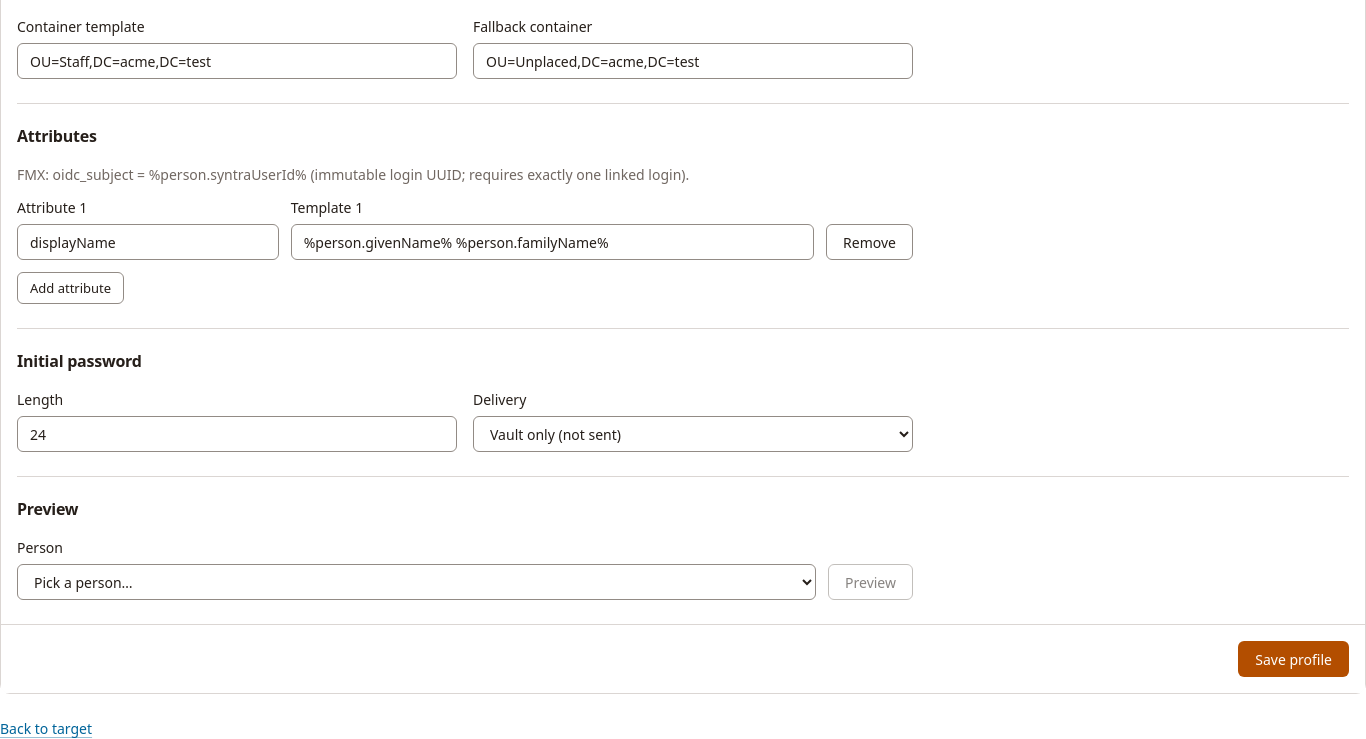
Scenario: AccountProfilePage › clears the preview after changing Template 1
The image size is (1366, 739).
(page scrolled)
Step 1. Select "Anna Novak" in the dropdown labelled "Person" → (417, 582), box [17,564,816,600]
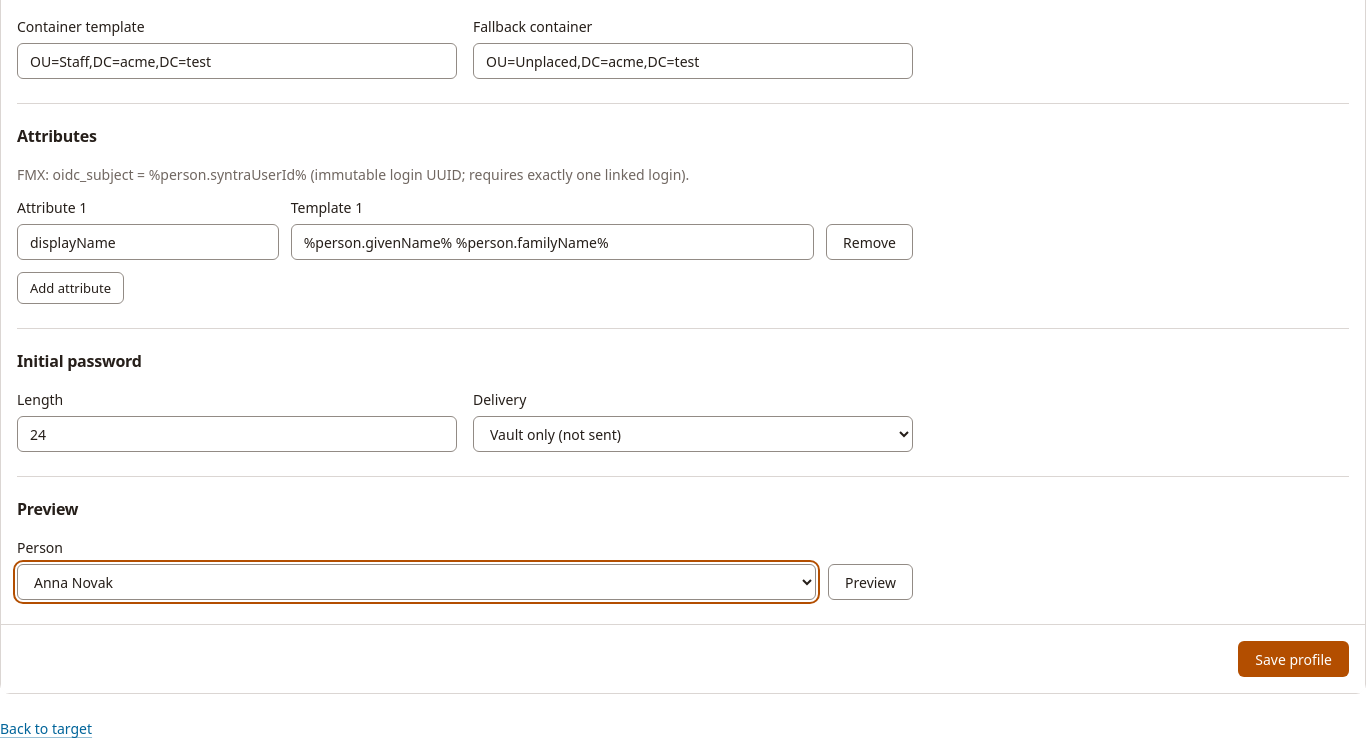
Step 2. Click the button "Preview" → (871, 582), box [828,564,913,600]
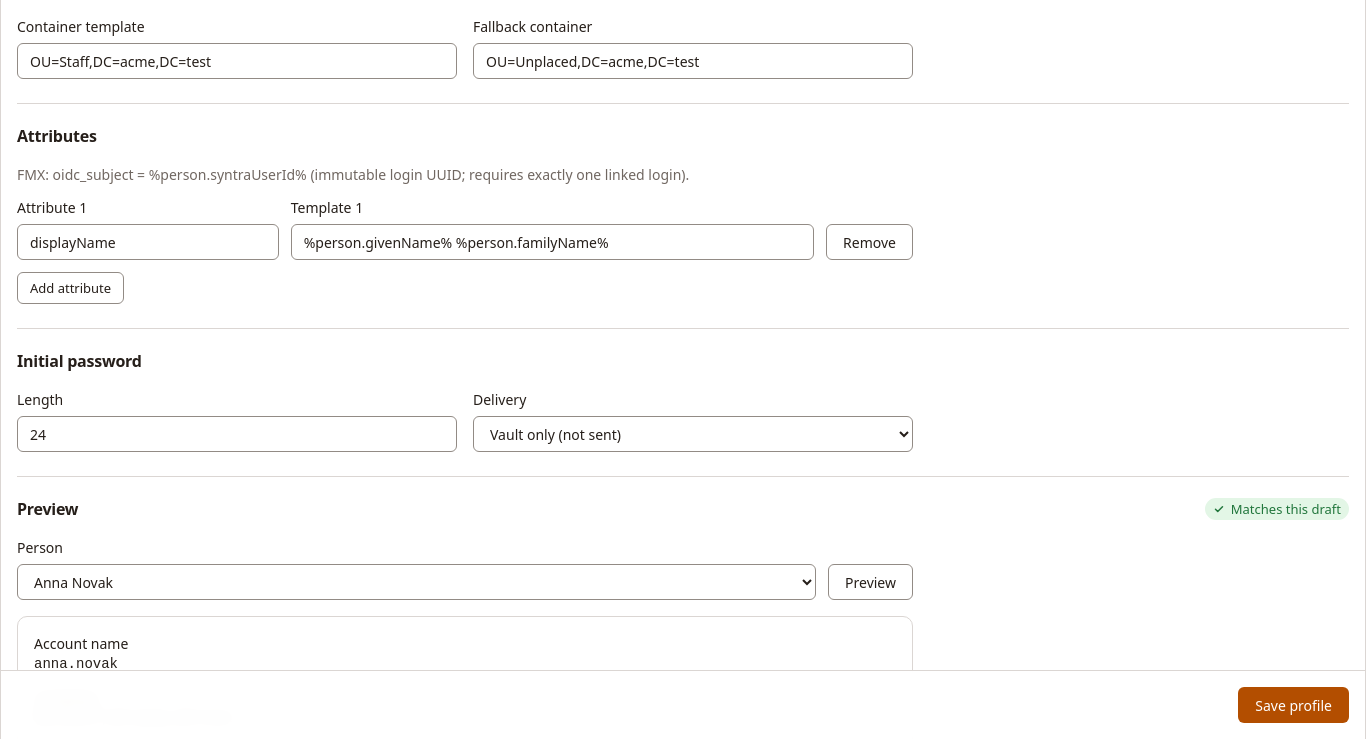
Now the text "anna.novak" is shown, box [34,656,118,672]
Step 3. Type "x" into the field labelled "Template 1" → (552, 242), box [291,224,814,260]
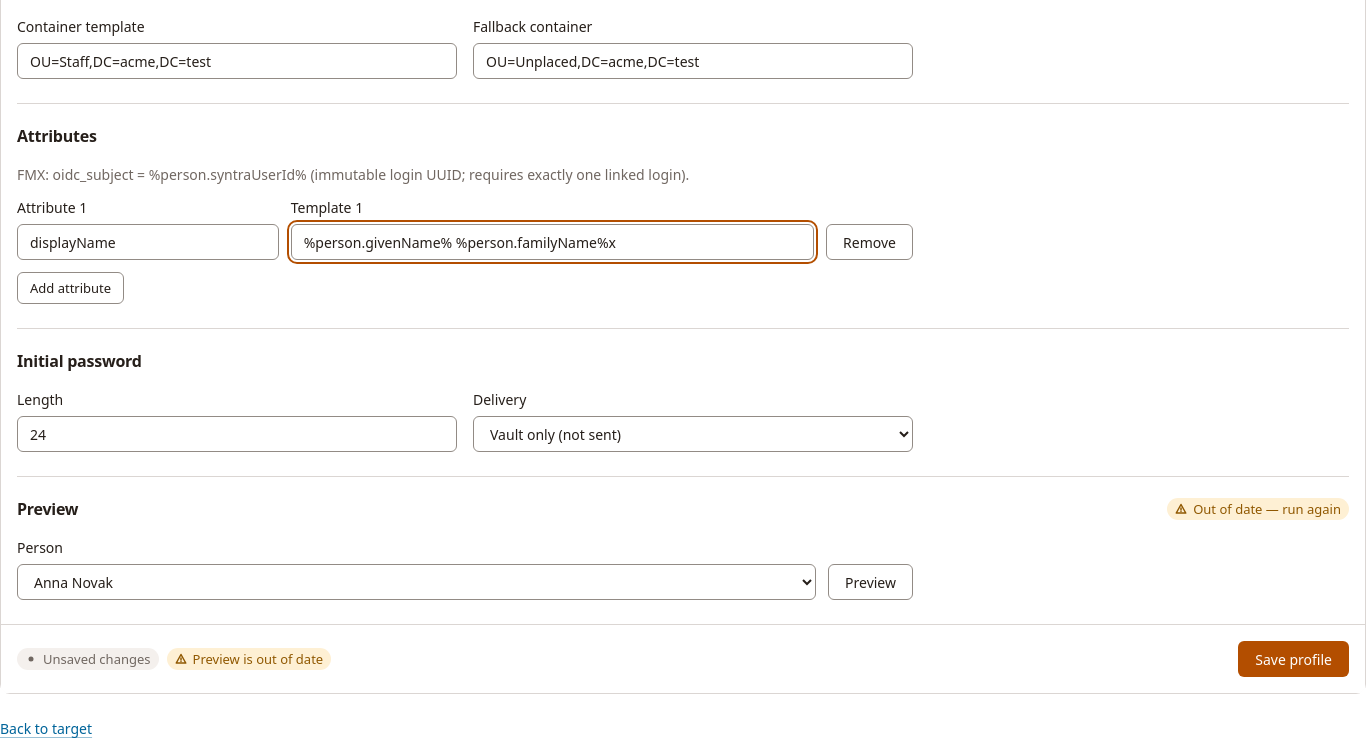
Now the text "anna.novak" is gone
